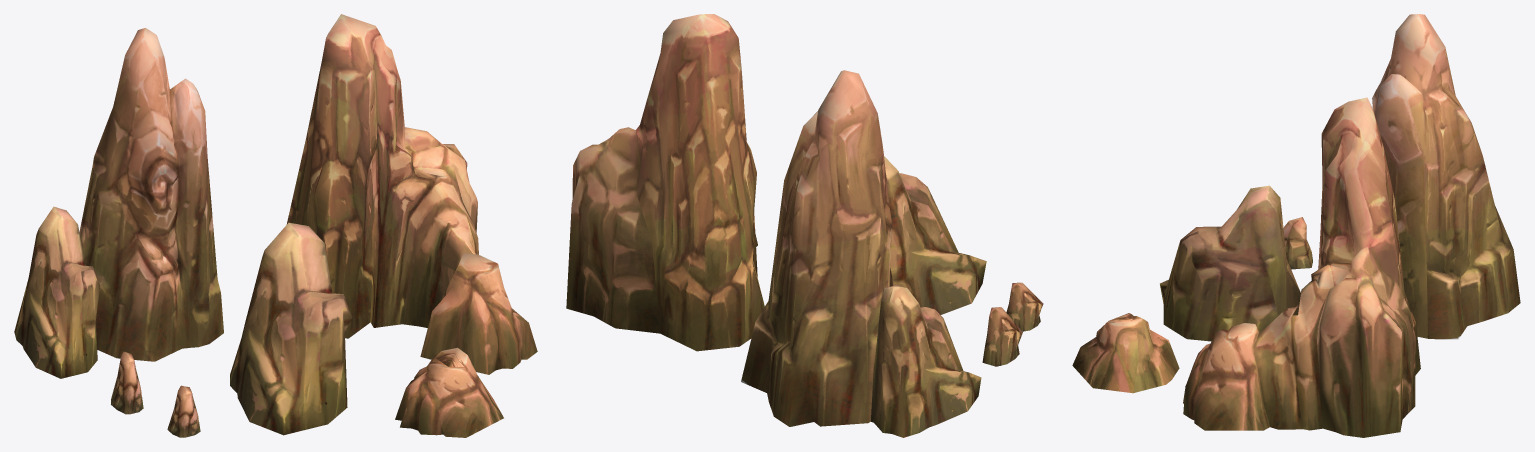
3 views of the same model, side by side, from view 1: azimuth 30°, elevation 25°; view 2: azimuth 150°, elevation 25°; view 3: azimuth 270°, elevation 25° (orthographic). The views are drawn at different scales.
Visible parts, largest first — view 1: 大山1, 大山2, 中山2, 中山1, 小山; view 2: 大山1, 大山2, 中山2, 小山; view 3: 大山2, 大山1, 中山2, 中山1.
Part boxes in pixels (x1,y1,x2,y2): 大山1: (14,28,223,414); 大山2: (286,14,537,374); 中山2: (230,222,352,435); 中山1: (395,347,503,437); 小山: (167,385,200,437); 大山1: (741,70,1022,437); 大山2: (566,14,764,351); 中山2: (884,156,986,314); 小山: (1006,282,1043,331); 大山2: (1183,97,1420,437); 大山1: (1283,14,1520,339); 中山2: (1160,185,1300,341); 中山1: (1072,313,1179,393).
Bounding box in the file's own units: 2.07 × 1.49 × 2.09.
2 materials, 2 textured.
